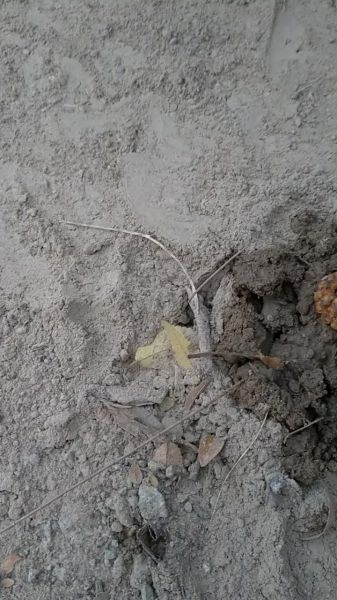eggs: (310, 271, 337, 332)
